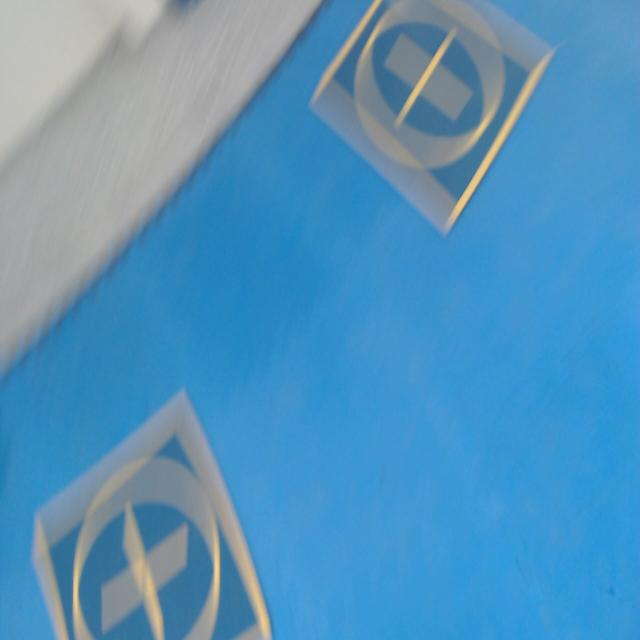base_pouso: (35, 381, 274, 638), (313, 0, 555, 237)
